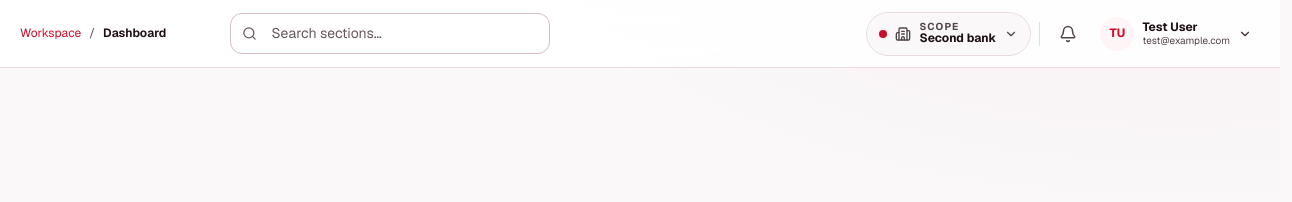
Test: topbar keyboard behaviour › exposes search suggestions as ordinary buttons rather than a listbox
Later steps or results of the test are not shown.
Type "dona" into the search field labelled "Search sections" at {"x": 390, "y": 34}, box [230,13,550,54]
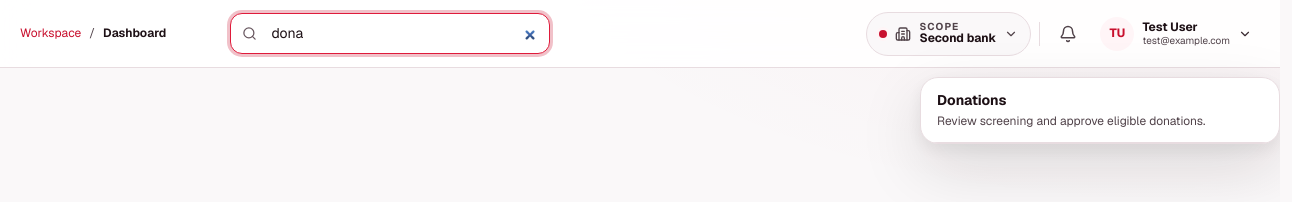
expect the button "Donations Review screening and approve eligible donations." is shown: met, box [921,78,1279,143]
